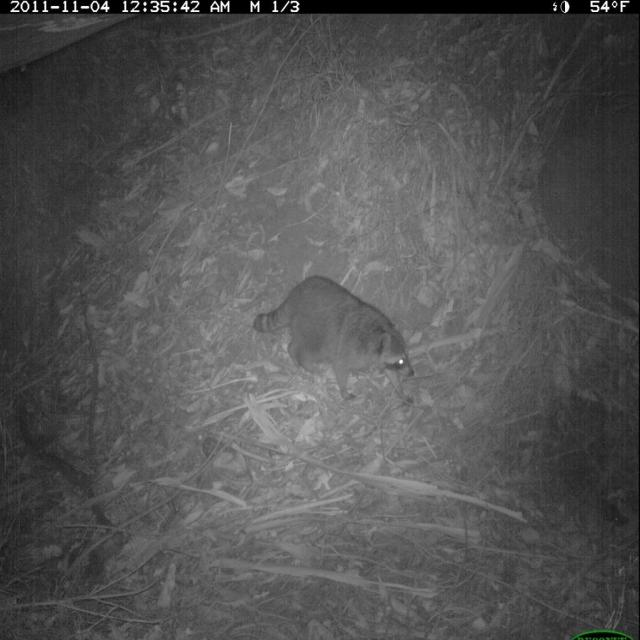raccoon: (252, 270, 421, 424)
